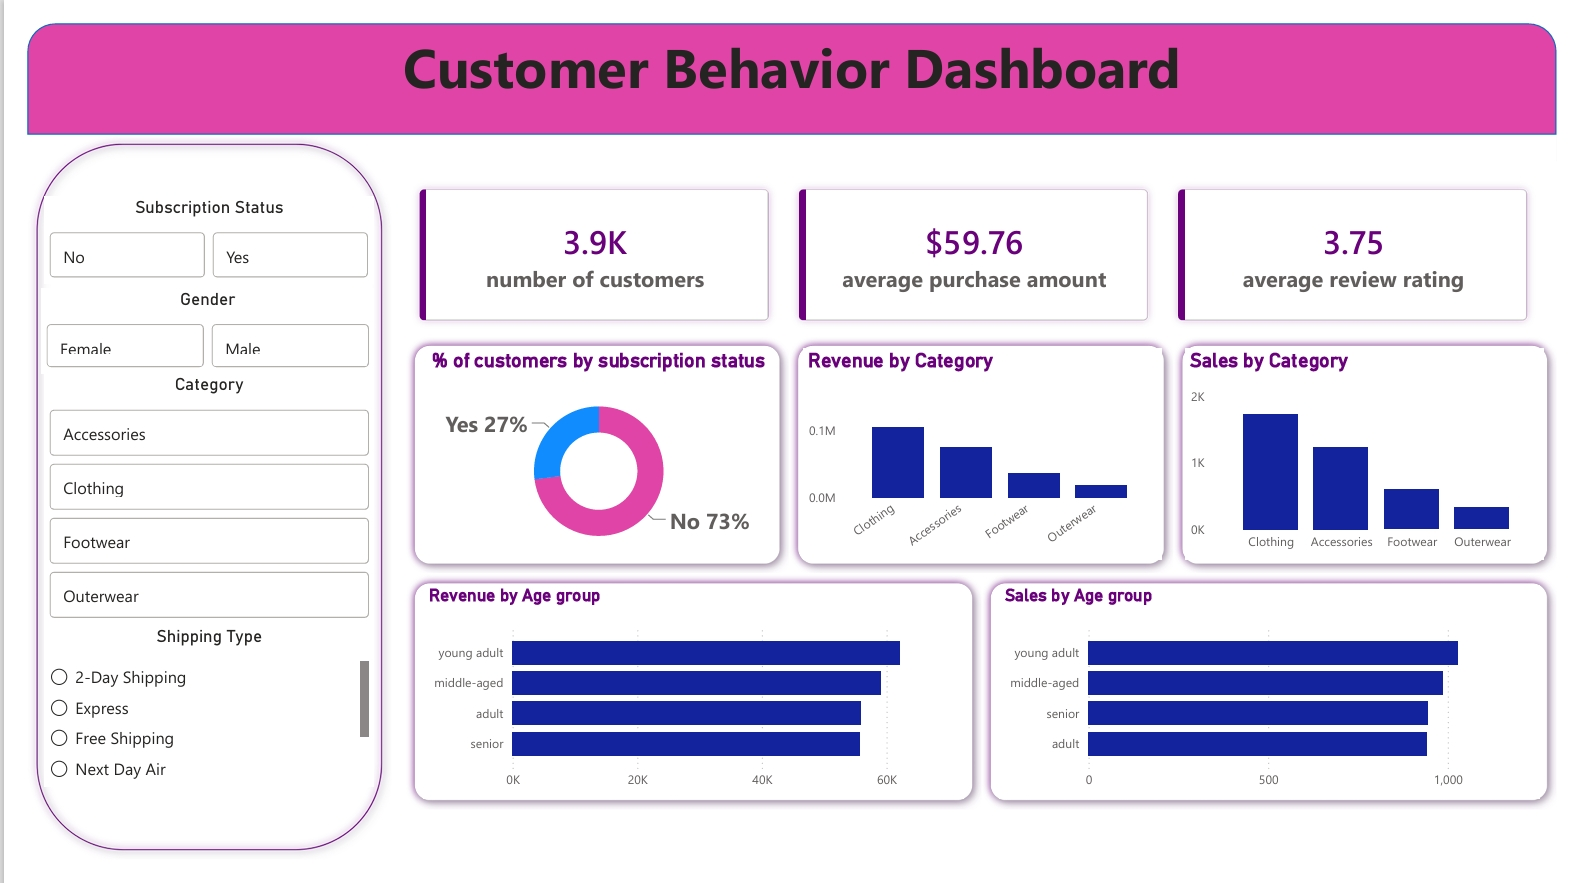

The dashboard page shown, as its layout file describes it:
{"tool":"powerbi","page":{"name":"Page 1","canvas":[1500,820],"ordinal":0},"visuals":[{"type":"cardVisual","fields":{"Data":["customer_behavior customer.number of customers","customer_behavior customer.average purchase amount","customer_behavior customer.average review rating"]},"box":[356.9,134.7,1143.1,184.7],"z":0},{"type":"shape","box":[0,0,1500,108.6],"z":1000},{"type":"textbox","box":[0,0,1500,84.3],"z":2000},{"type":"shape","box":[370.8,306.9,376.4,231.9],"z":3000},{"type":"donutChart","title":"% of customers by subscription status","fields":{"Category":["customer_behavior customer.subscription_status"],"Y":["CountNonNull(customer_behavior customer.customer_id)"]},"box":[388.9,319.4,343.1,206.9],"z":4000},{"type":"shape","box":[747.2,306.9,376.4,231.9],"z":5000},{"type":"shape","box":[1123.6,306.9,376.4,231.9],"z":6000},{"type":"clusteredColumnChart","title":"Revenue by Category","fields":{"Y":["Sum(customer_behavior customer.purchase_amount)"],"Category":["customer_behavior customer.category"]},"box":[761.1,319.4,351.4,206.9],"z":7000},{"type":"clusteredColumnChart","title":"Sales by Category","fields":{"Y":["CountNonNull(customer_behavior customer.customer_id)"],"Category":["customer_behavior customer.category"]},"box":[1136.1,319.4,351.4,206.9],"z":8000},{"type":"shape","box":[0,108.6,357.1,711.4],"z":9000},{"type":"advancedSlicerVisual","title":"Subscription Status","fields":{"Values":["customer_behavior customer.subscription_status"]},"box":[17.1,170,322.9,85.7],"z":10000},{"type":"advancedSlicerVisual","title":"Gender","fields":{"Values":["customer_behavior customer.gender"]},"box":[14.3,260,325.7,84.3],"z":11000},{"type":"advancedSlicerVisual","title":"Category","fields":{"Values":["customer_behavior customer.category"]},"box":[17.1,344.3,322.9,247.1],"z":12000},{"type":"listSlicer","title":"Shipping Type","fields":{"Values":["customer_behavior customer.shipping_type"]},"box":[17.1,591.4,322.9,157.1],"z":13000},{"type":"shape","box":[371.4,540,564.3,231.4],"z":14000},{"type":"clusteredBarChart","title":"Revenue by Age group","fields":{"Y":["Sum(customer_behavior customer.purchase_amount)"],"Category":["customer_behavior customer.age_group"]},"box":[388.6,551.4,530,208.6],"z":15000},{"type":"shape","box":[935.7,540,564.3,231.4],"z":16000},{"type":"clusteredBarChart","title":"Sales by Age group","fields":{"Y":["CountNonNull(customer_behavior customer.customer_id)"],"Category":["customer_behavior customer.age_group"]},"box":[954.3,551.4,530,208.6],"z":17000}]}

Visuals, with their boxes in screenshot pixels (x1, y1, x2, y2), scaled from the page's 1500x820 canvas onto the 1576x883 screenshot:
cardVisual - customer_behavior customer.number of customers x customer_behavior customer.average purchase amount: box=[375, 145, 1575, 344]
shape: box=[0, 0, 1575, 117]
textbox: box=[0, 0, 1575, 91]
shape: box=[390, 330, 785, 580]
"% of customers by subscription status" donutChart: box=[409, 344, 769, 567]
shape: box=[785, 330, 1181, 580]
shape: box=[1181, 330, 1575, 580]
"Revenue by Category" clusteredColumnChart: box=[800, 344, 1169, 567]
"Sales by Category" clusteredColumnChart: box=[1194, 344, 1563, 567]
shape: box=[0, 117, 375, 882]
"Subscription Status" advancedSlicerVisual: box=[18, 183, 357, 275]
"Gender" advancedSlicerVisual: box=[15, 280, 357, 371]
"Category" advancedSlicerVisual: box=[18, 371, 357, 637]
"Shipping Type" listSlicer: box=[18, 637, 357, 806]
shape: box=[390, 581, 983, 831]
"Revenue by Age group" clusteredBarChart: box=[408, 594, 965, 818]
shape: box=[983, 581, 1575, 831]
"Sales by Age group" clusteredBarChart: box=[1003, 594, 1560, 818]
